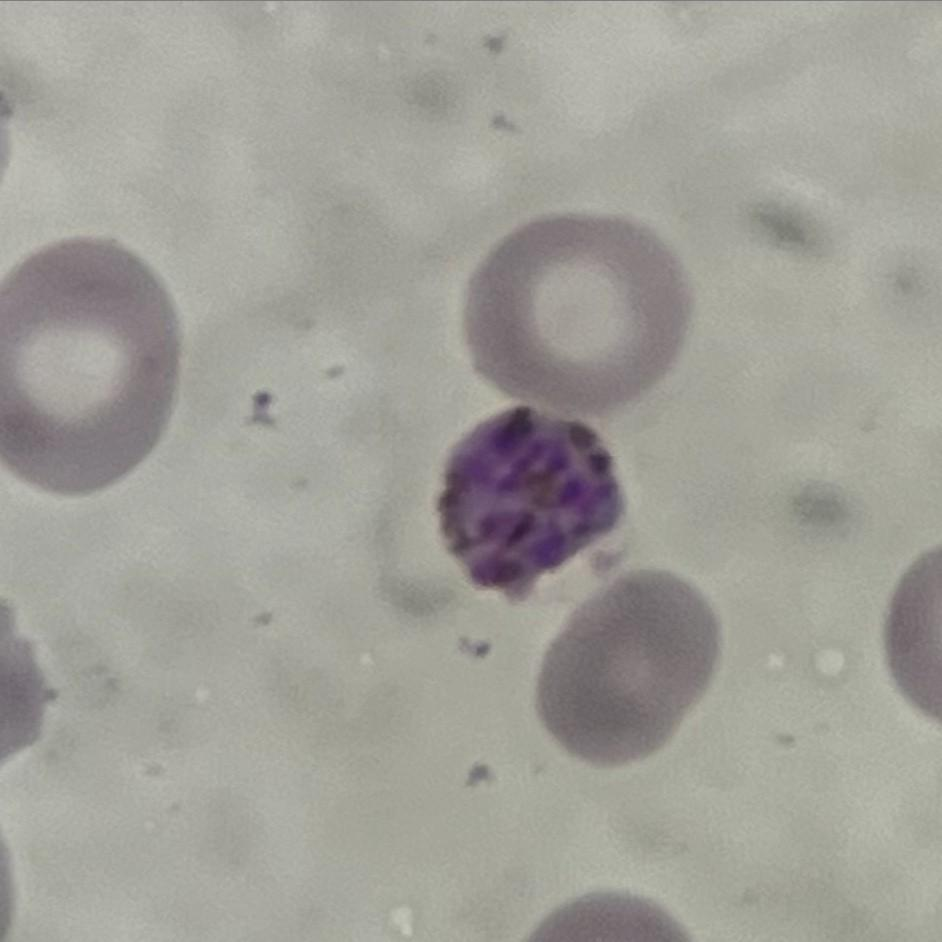Infected: (436, 409, 623, 596)
Uninfected: (0, 235, 181, 498), (470, 213, 686, 414), (540, 569, 722, 769)
